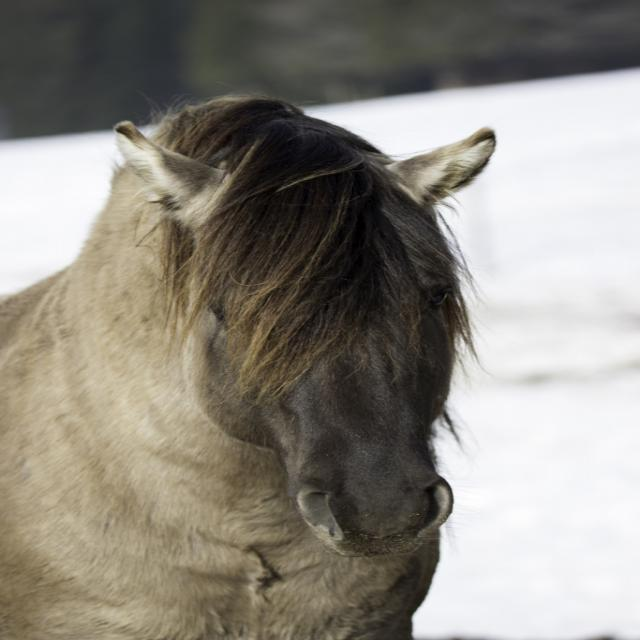Horse: (0, 91, 495, 640)
